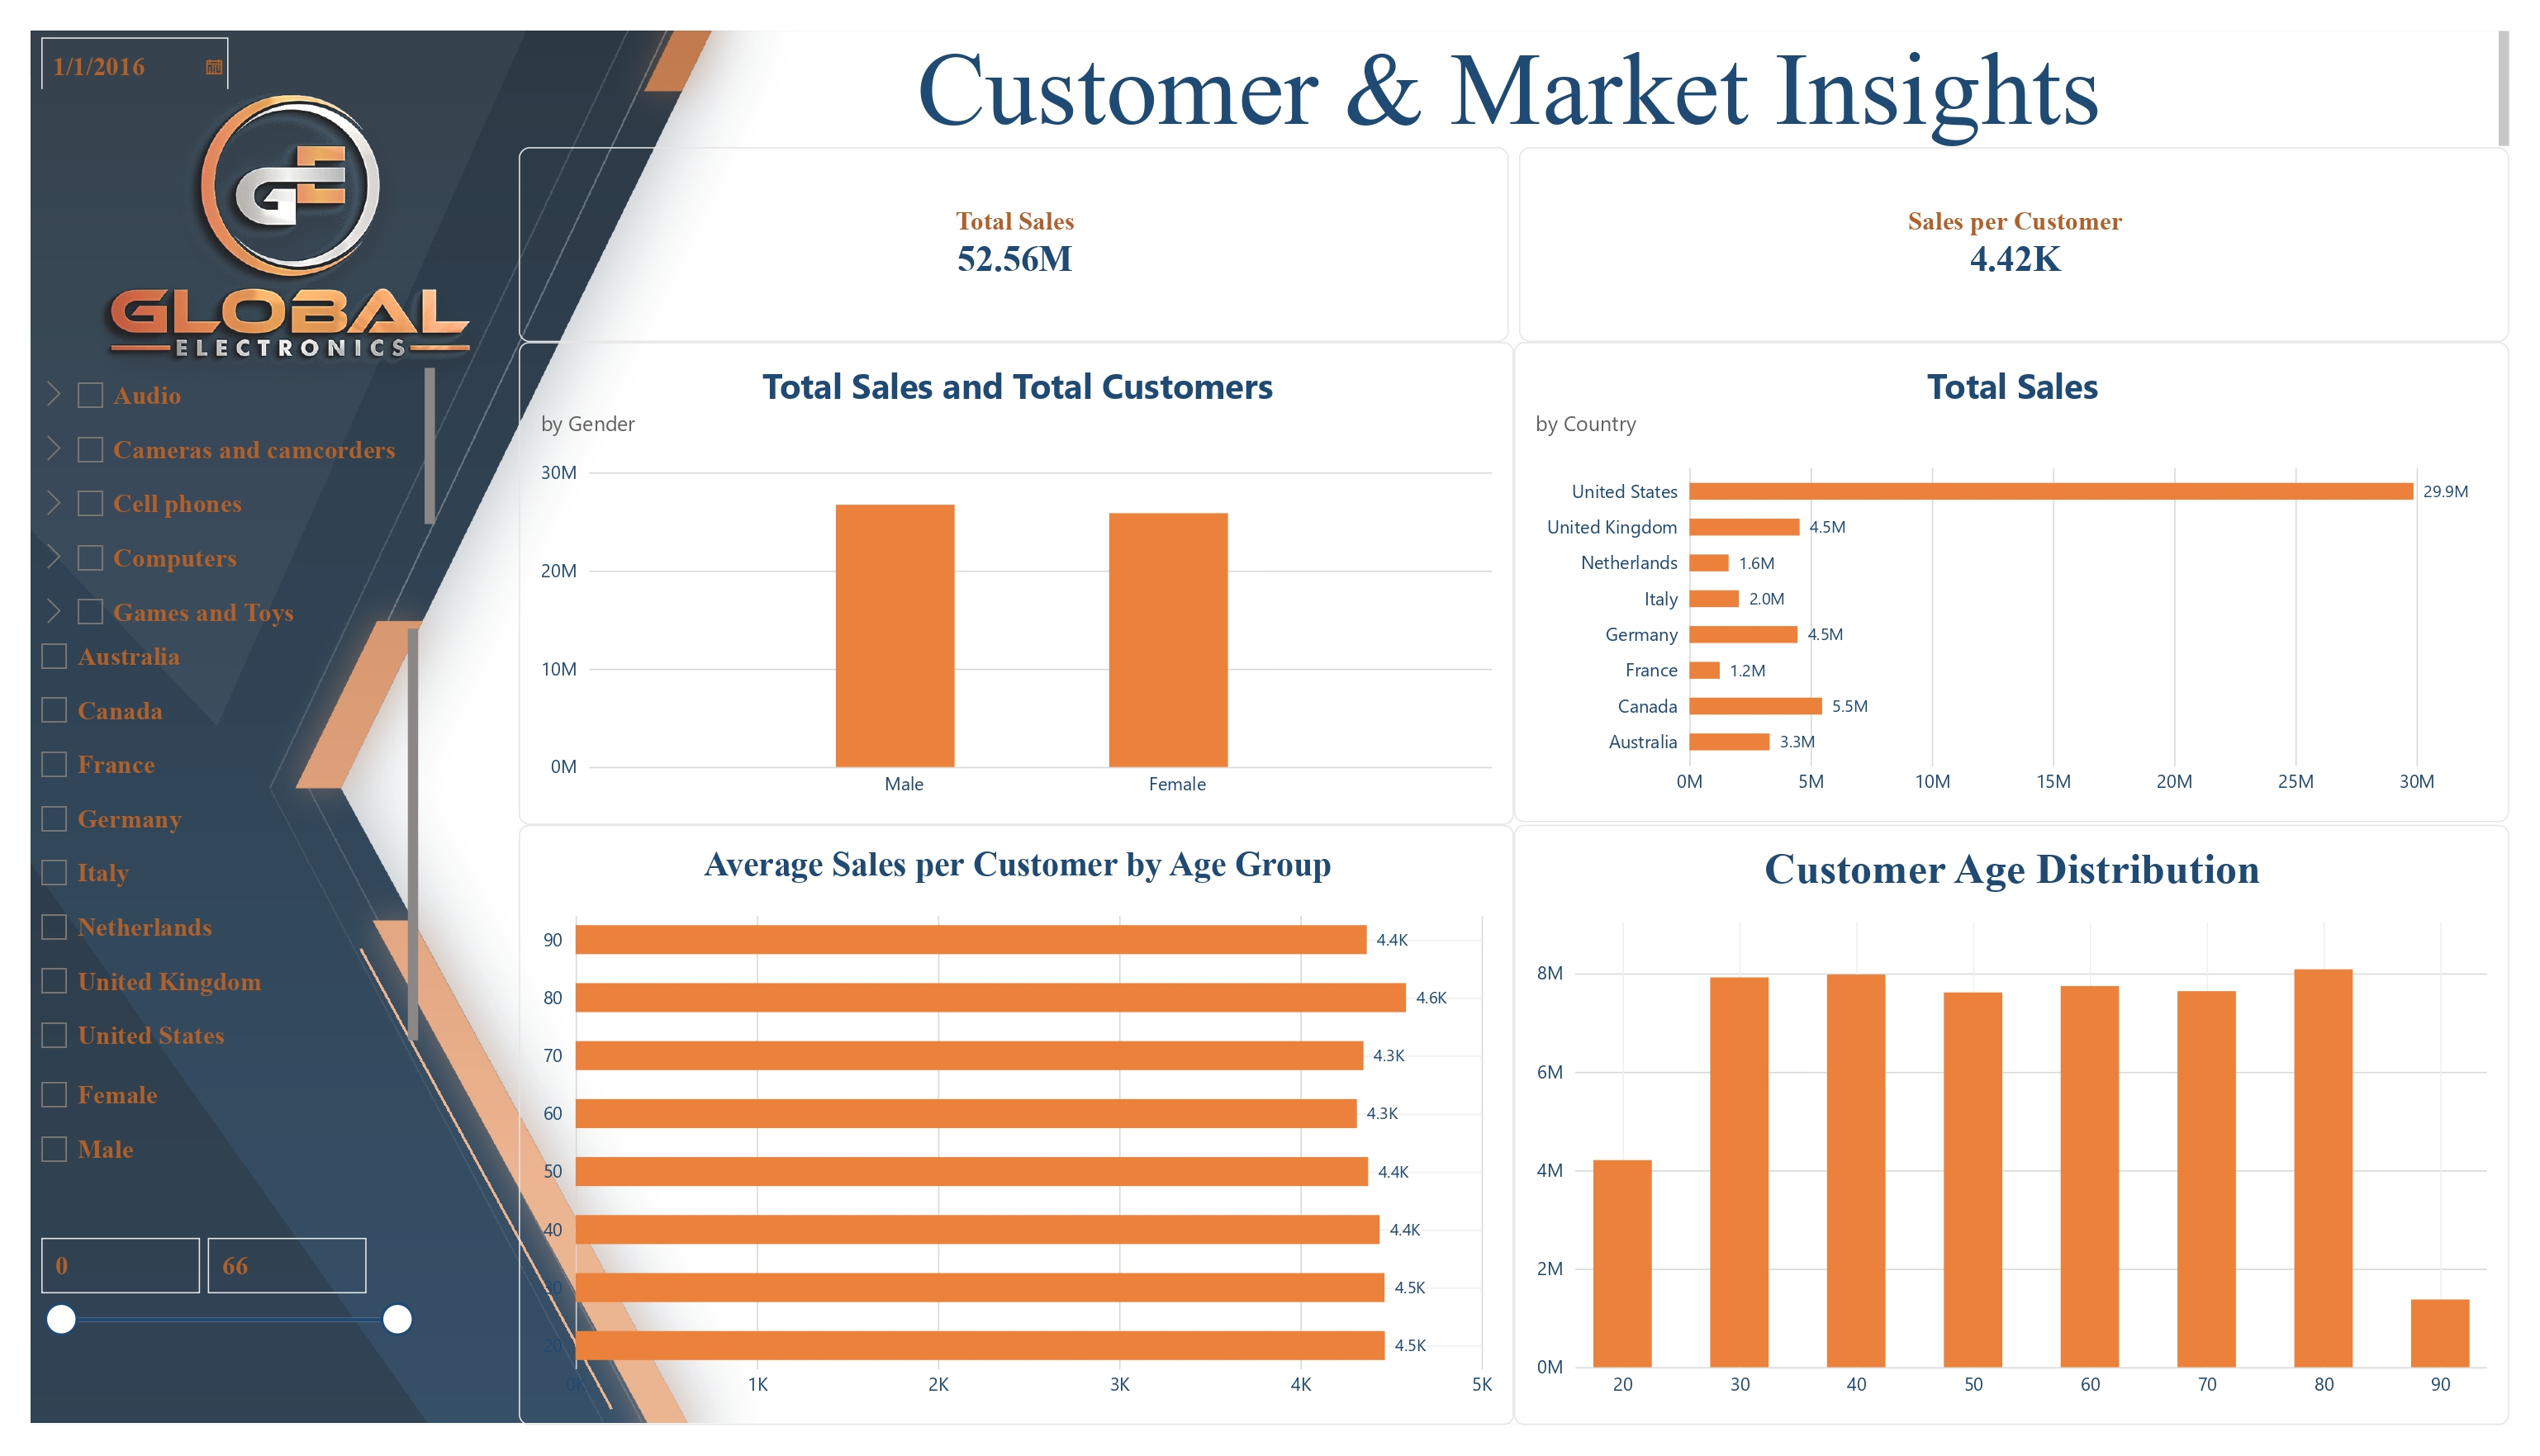

Layout of this report page (visuals, bound fields, positions):
{"tool":"powerbi","page":{"name":"Customer & Market Insights","canvas":[1920,1080],"ordinal":3},"visuals":[{"type":"textbox","box":[378.2,0,1541.8,90.5],"z":0},{"type":"slicer","fields":{"Values":["Sales.Order Date"]},"box":[0,0,300.4,45.2],"z":1},{"type":"slicer","fields":{"Values":["Products.Category","Products.Brand"]},"box":[0,260.6,313.1,202.7],"z":2},{"type":"slicer","fields":{"Values":["Customers.Country"]},"box":[0,463.3,300.4,331.2],"z":3},{"type":"slicer","fields":{"Values":["Customers.Gender"]},"box":[0,803.5,300.4,103.2],"z":4},{"type":"slicer","fields":{"Values":["Sales.StoreKey"]},"box":[0,930,300,150],"z":5},{"type":"cardVisual","fields":{"Data":["_Measures.Total Sales","_Measures.Sales per Customer"]},"box":[378.2,90.5,1541.8,150.2],"z":6},{"type":"clusteredBarChart","fields":{"Category":["Customers.Country","Customers.State","Customers.City"],"Y":["_Measures.Total Sales"]},"box":[1149.1,240.7,770.9,372.8],"z":7},{"type":"clusteredColumnChart","fields":{"Category":["Customers.Gender"],"Y":["_Measures.Total Sales"]},"box":[378.2,240.7,770.9,374.6],"z":8},{"type":"clusteredColumnChart","title":"Customer Age Distribution","fields":{"Category":["Customers.Age (bins)"],"Y":["_Measures.Total Sales"]},"box":[1149.1,615.3,770.9,465.1],"z":9},{"type":"clusteredBarChart","title":"Average Sales per Customer by Age Group","fields":{"Category":["Customers.Age (bins)"],"Y":["_Measures.Sales per Customer"]},"box":[378.2,615.3,770.9,465.1],"z":10}]}

Visuals, with their boxes on the page's 1920x1080 design canvas (x1, y1, x2, y2). These are canvas units, not pixel positions in the 2540x1456 screenshot, which may show the page scaled, cropped or inside an application window:
textbox: [378,0,1920,90]
slicer - Sales.Order Date: [0,0,300,45]
slicer - Products.Category x Products.Brand: [0,261,313,463]
slicer - Customers.Country: [0,463,300,794]
slicer - Customers.Gender: [0,804,300,907]
slicer - Sales.StoreKey: [0,930,300,1080]
cardVisual - _Measures.Total Sales x _Measures.Sales per Customer: [378,90,1920,241]
clusteredBarChart - Customers.Country x Customers.State: [1149,241,1920,614]
clusteredColumnChart - Customers.Gender x _Measures.Total Sales: [378,241,1149,615]
"Customer Age Distribution" clusteredColumnChart: [1149,615,1920,1080]
"Average Sales per Customer by Age Group" clusteredBarChart: [378,615,1149,1080]
